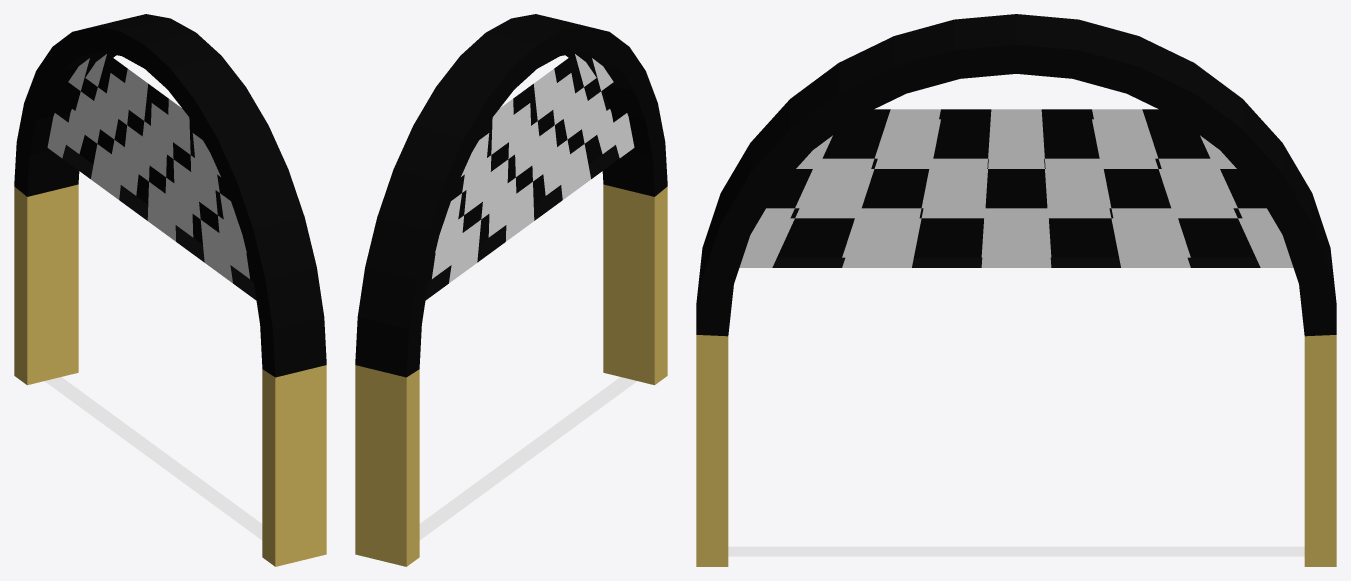
The model's file is Finish _line.fbx.
The picture shows the model from 3 angles, left to right: view 1: azimuth 30°, elevation 25°; view 2: azimuth 150°, elevation 25°; view 3: azimuth 270°, elevation 25°; orthographic projection. The views are drawn at different scales.
Visible parts, largest first — view 1: Cylinder, Plane; view 2: Cylinder, Plane; view 3: Plane, Cylinder.
Part boxes in pixels (<box>): Cylinder: <box>14,14,326,566</box>; Plane: <box>47,53,256,300</box>; Cylinder: <box>355,14,667,566</box>; Plane: <box>425,53,634,300</box>; Plane: <box>739,109,1293,267</box>; Cylinder: <box>696,14,1336,566</box>.
Bounding box in the file's own units: 22.68 × 180 × 200.
